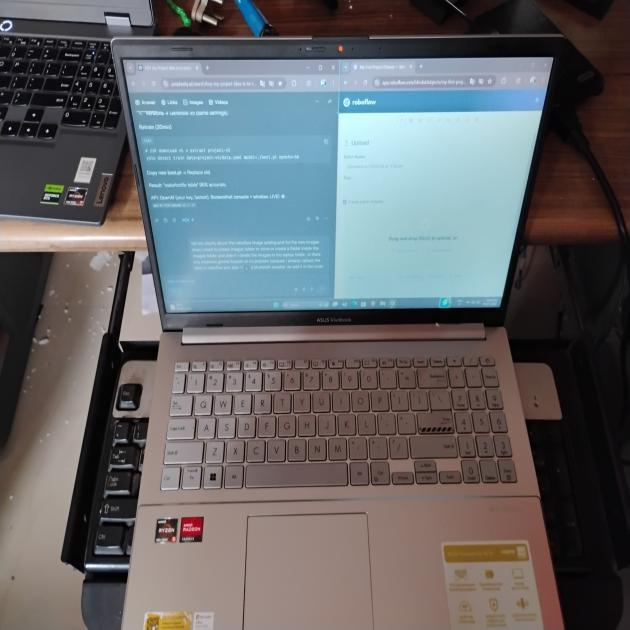laptop: (111, 30, 578, 630)
